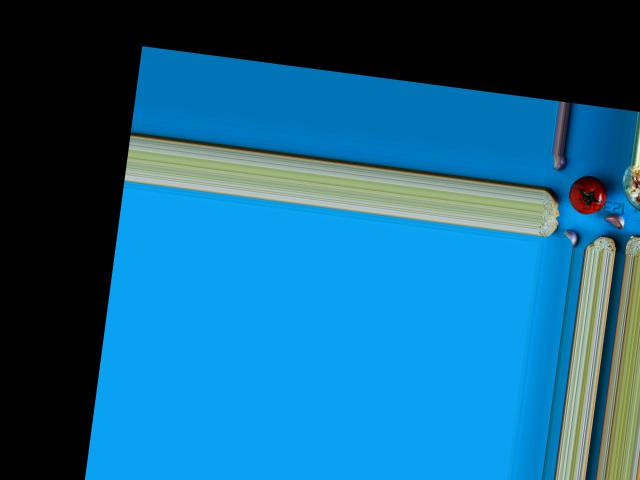tomato: (566, 173, 607, 216)
